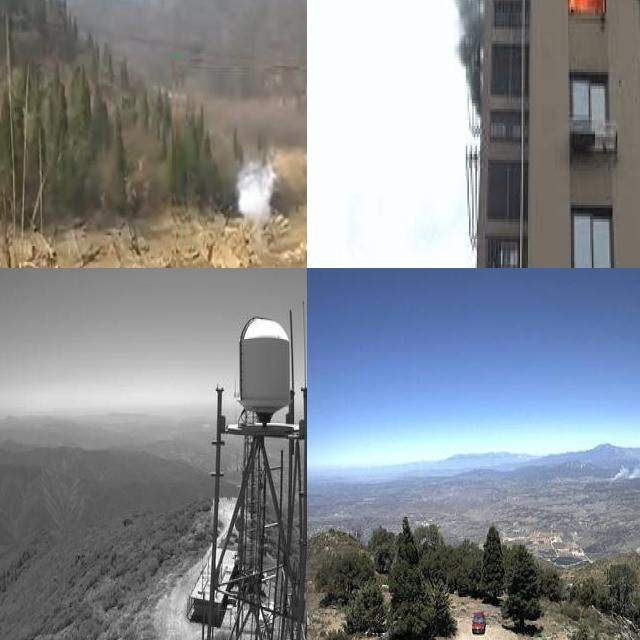smoke: (427, 0, 491, 125), (235, 161, 272, 223), (604, 457, 640, 485)
